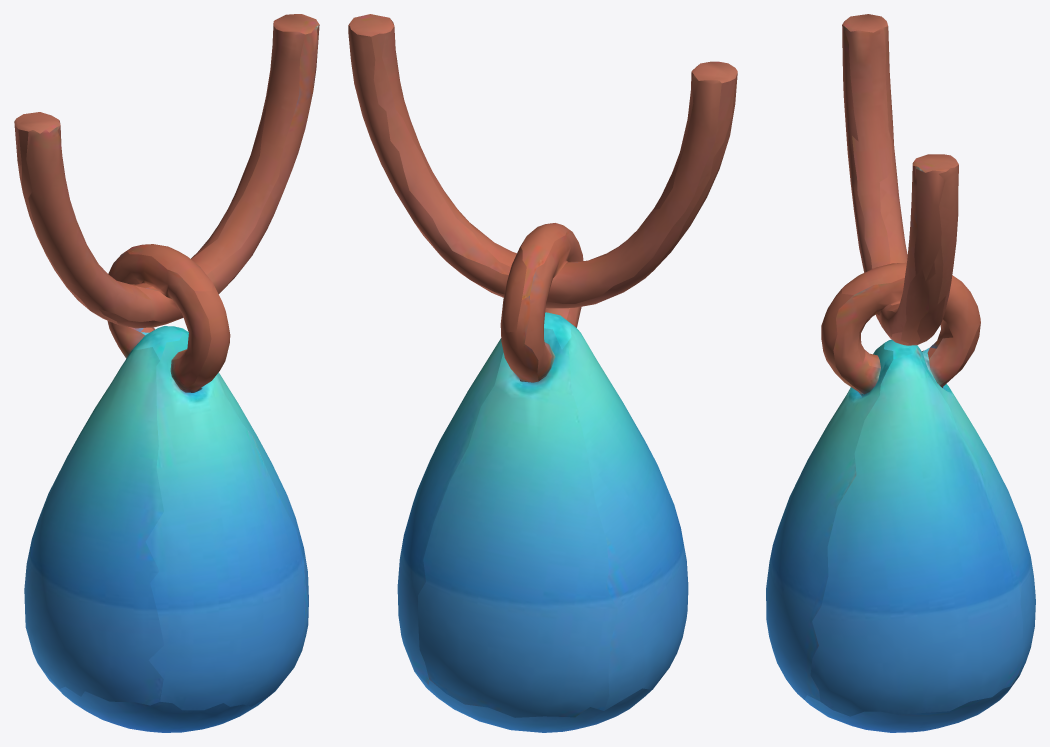
The model's file is pendant.glb.
3 renders of one model, left to right at view 1: azimuth 30°, elevation 25°; view 2: azimuth 150°, elevation 25°; view 3: azimuth 270°, elevation 25°, orthographic. The views are drawn at different scales.
Visible parts, largest first — view 1: pendant_s31; view 2: pendant_s31; view 3: pendant_s31.
Part boxes in pixels (x1=…): pendant_s31: x1=14, y1=14, x2=319, y2=732; pendant_s31: x1=348, y1=14, x2=737, y2=732; pendant_s31: x1=766, y1=14, x2=1035, y2=732.
Bounding box in the file's own units: 0.5424 × 1 × 0.3917.
1 material, 1 textured.
